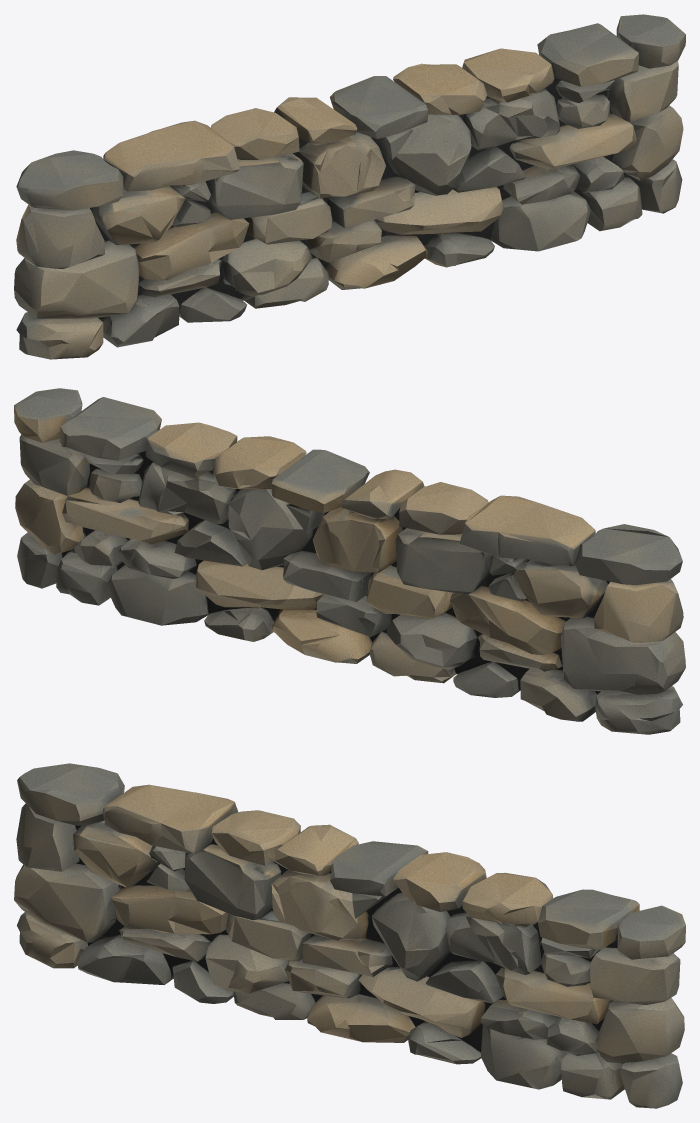
The model's file is stone_wall.glb.
3 renders of one model, top to bottom at view 1: azimuth 30°, elevation 25°; view 2: azimuth 150°, elevation 25°; view 3: azimuth 330°, elevation 25°, orthographic.
Bounding box in the file's own units: 1.9 × 0.4914 × 0.2496.
1 material, 1 textured.
